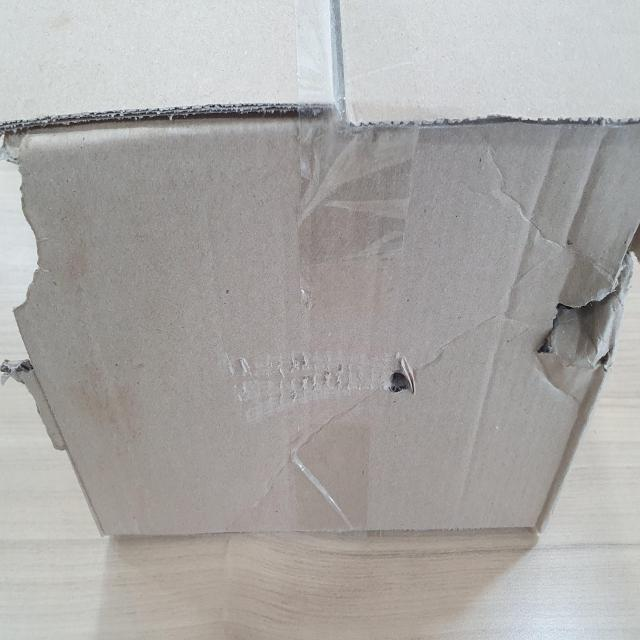damaged: (537, 266, 619, 408)
